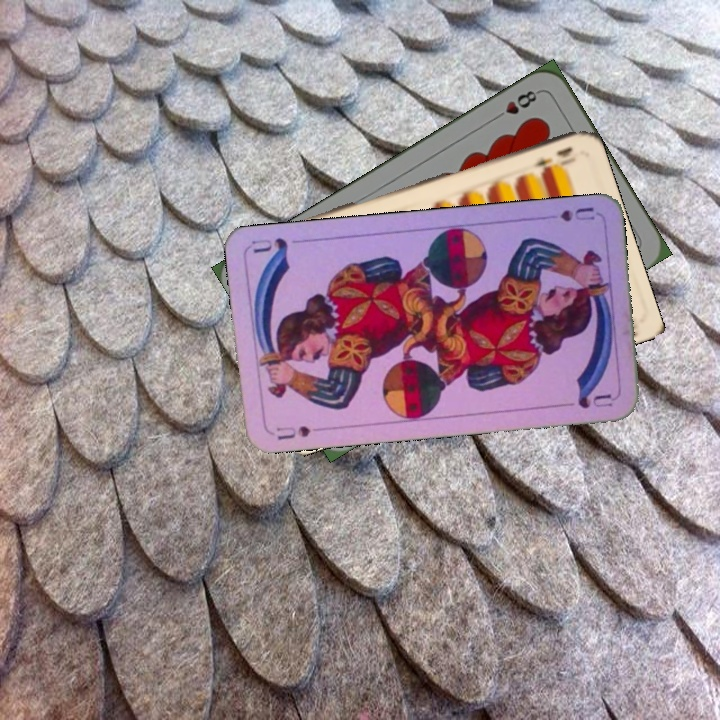E10: (528, 143, 576, 170)
H8: (489, 86, 543, 123)
SU: (538, 203, 598, 224), (266, 421, 313, 443)
